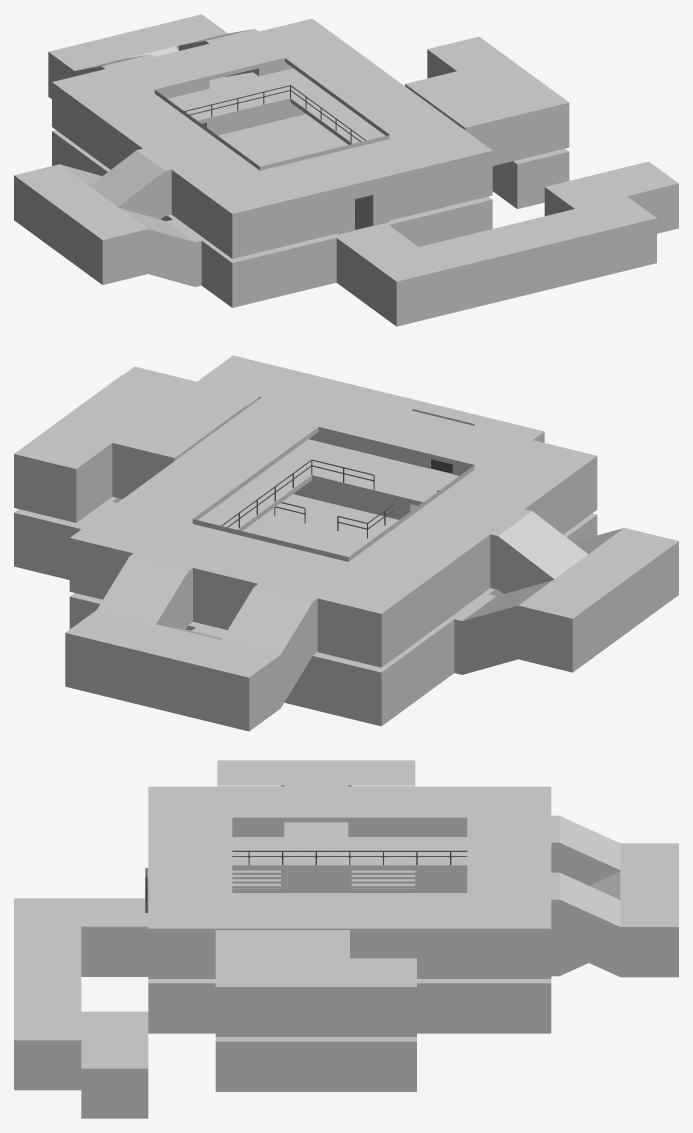
File: Bond_Level_02_V8.fbx
3 renders of one model, top to bottom at view 1: azimuth 30°, elevation 25°; view 2: azimuth 150°, elevation 25°; view 3: azimuth 270°, elevation 25°, orthographic. The views are drawn at different scales.
Visible parts, largest first — view 1: FirstFloor.001, Stairway.001, GroundFloorV2, Hallway01, Room01, Stairway, HallwayCorner01, HallwayStraight01, HallwayStraight01.001, HallwayCorner01.001, HallwayDeadEnd, Doorway.002 (+2 smaller); view 2: FirstFloor.001, Stairway, Stairway.001, Room01, GroundFloorV2, Hallway02, Hallway01, HallwayCorner01, HallwayStraight01, HallwayCorner01.001, HallwayStraight01.001; view 3: FirstFloor.001, Room01, Stairway, GroundFloorV2, Hallway02, Hallway01, Stairway.001, HallwayCorner01, HallwayDeadEnd.001, Stairs.001, HallwayCorner01.001, HallwayStraight01.001 (+1 smaller).
Part boxes in pixels (left/top/right/bottom): FirstFloor.001: left=52, top=18, right=492, bottom=258; Stairway.001: left=14, top=148, right=202, bottom=286; GroundFloorV2: left=52, top=102, right=492, bottom=307; Hallway01: left=336, top=221, right=552, bottom=326; Room01: left=405, top=36, right=569, bottom=165; Stairway: left=48, top=14, right=260, bottom=128; HallwayCorner01: left=575, top=196, right=656, bottom=275; HallwayStraight01: left=523, top=209, right=604, bottom=288; HallwayStraight01.001: left=597, top=161, right=678, bottom=233; HallwayCorner01.001: left=544, top=174, right=626, bottom=215; HallwayDeadEnd: left=517, top=151, right=569, bottom=208; Doorway.002: left=336, top=176, right=389, bottom=234; FirstFloor.001: left=69, top=380, right=597, bottom=667; Stairway: left=65, top=553, right=318, bottom=731; Stairway.001: left=453, top=509, right=678, bottom=674; Room01: left=14, top=375, right=246, bottom=522; GroundFloorV2: left=69, top=480, right=597, bottom=726; Hallway02: left=14, top=496, right=122, bottom=579; Hallway01: left=346, top=386, right=544, bottom=511; HallwayCorner01: left=197, top=355, right=294, bottom=396; HallwayStraight01: left=259, top=370, right=357, bottom=398; HallwayCorner01.001: left=185, top=382, right=259, bottom=407; HallwayStraight01.001: left=123, top=366, right=196, bottom=390; FirstFloor.001: left=148, top=786, right=551, bottom=978; Room01: left=215, top=930, right=416, bottom=1036; Stairway: left=551, top=815, right=678, bottom=977; GroundFloorV2: left=148, top=870, right=551, bottom=1033; Hallway02: left=215, top=1037, right=416, bottom=1091; Hallway01: left=14, top=898, right=148, bottom=983; Stairway.001: left=217, top=760, right=416, bottom=888; HallwayCorner01: left=14, top=1011, right=81, bottom=1090; HallwayDeadEnd.001: left=81, top=1068, right=148, bottom=1118; Stairs.001: left=232, top=822, right=415, bottom=888; HallwayCorner01.001: left=81, top=1011, right=148, bottom=1040; HallwayStraight01.001: left=81, top=1040, right=148, bottom=1068.
Size of the model in its own units: 3960 by 720 by 3960.
